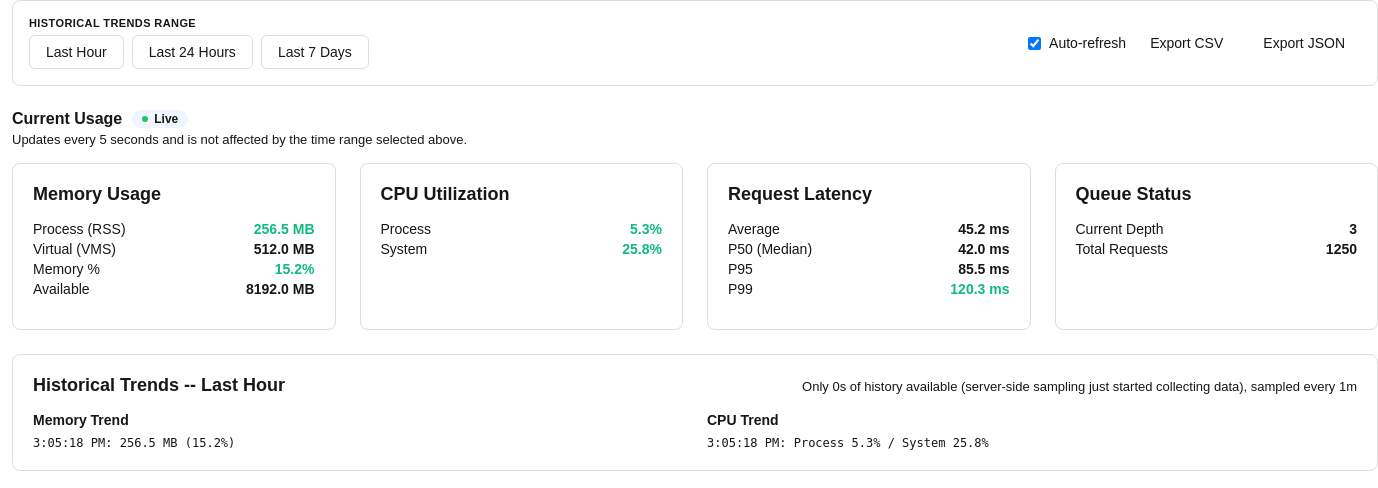
ResourceMetrics › shows an empty-history message when no samples exist yet
The width and height of the screenshot is (1378, 488).
Expected: the heading "Memory Usage" is shown, [33,184,161,204]
Click the checkbox labelled "Auto-refresh". click: (1035, 43)
box: [1028,36,1041,50]
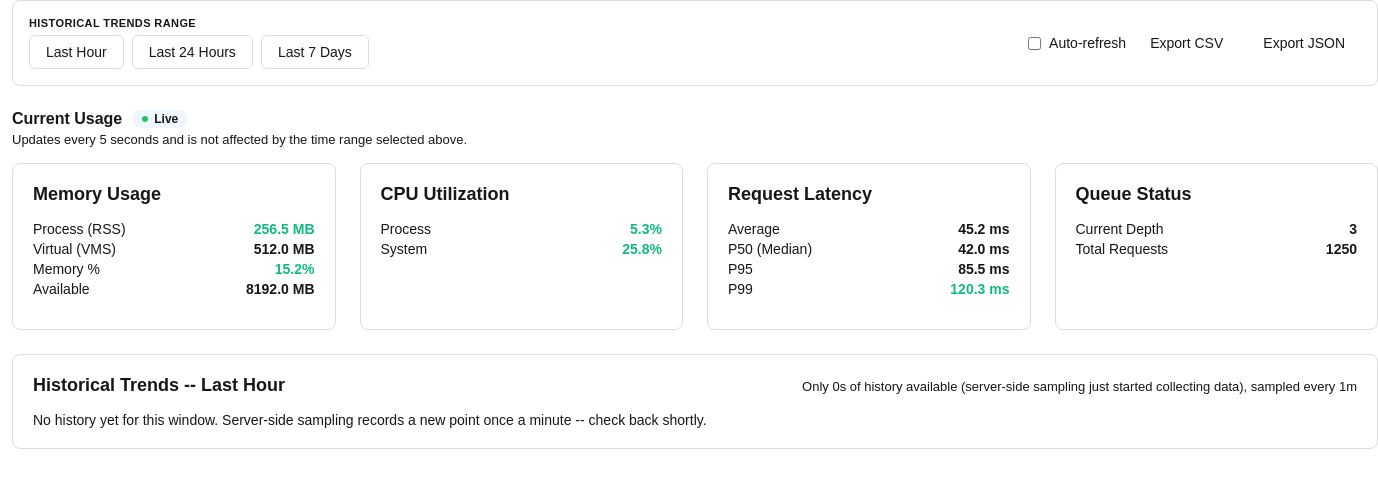
Result: the text "No history yet for this window" is shown at [33,412,707,428]
